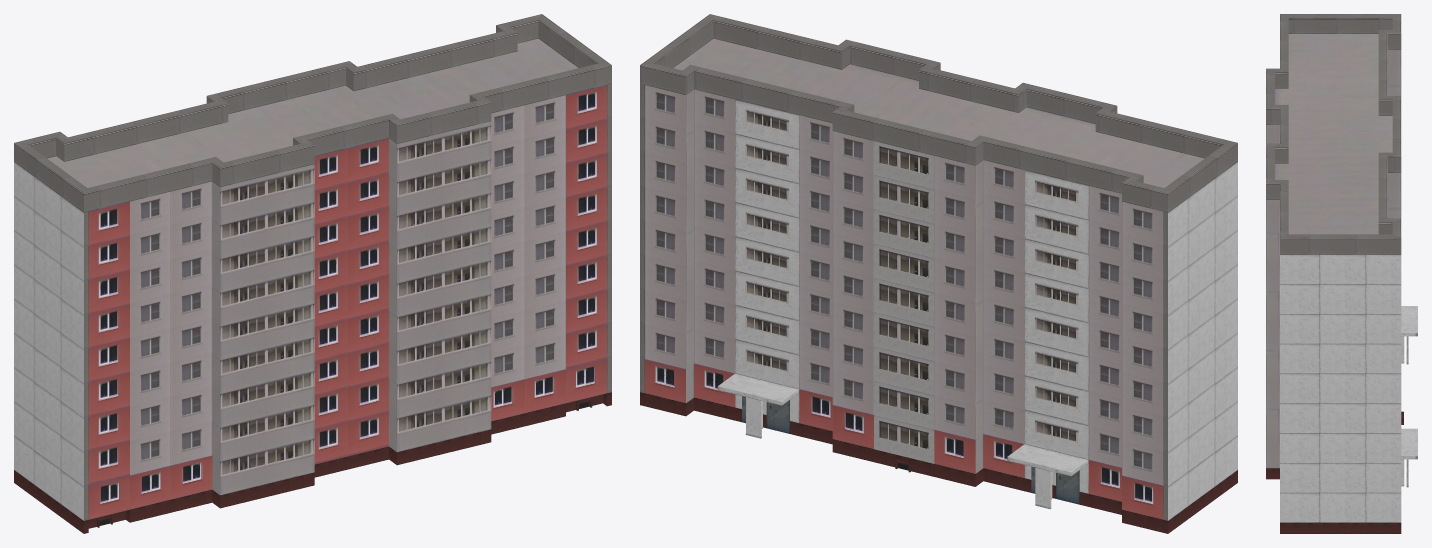
Rendered from panel_house_9.glb.
3 renders of one model, left to right at view 1: azimuth 30°, elevation 25°; view 2: azimuth 150°, elevation 25°; view 3: azimuth 270°, elevation 25°, orthographic. The views are drawn at different scales.
Visible parts, largest first — view 1: Object_2, Object_4, Object_6, Object_3, Object_7, Object_5; view 2: Object_6, Object_9, Object_3, Object_7, Object_2, Object_10, Object_4, Object_5, Object_8; view 3: Object_7, Object_2, Object_3, Object_5.
Boxes of the visible parts, box(x1,y1,x2,y2) form: Object_2: box(47, 38, 578, 495); Object_4: box(88, 85, 606, 525); Object_6: box(130, 95, 565, 475); Object_3: box(14, 14, 611, 520); Object_7: box(14, 162, 83, 520); Object_5: box(14, 392, 611, 533); Object_6: box(645, 85, 1163, 485); Object_9: box(735, 99, 1088, 459); Object_3: box(640, 14, 1237, 520); Object_7: box(717, 162, 1237, 520); Object_2: box(673, 38, 1204, 473); Object_10: box(874, 141, 934, 463); Object_4: box(645, 359, 1163, 519); Object_5: box(640, 392, 1237, 533); Object_8: box(742, 396, 1079, 504); Object_7: box(1280, 254, 1417, 522); Object_2: box(1266, 34, 1401, 468); Object_3: box(1266, 14, 1401, 254); Object_5: box(1266, 411, 1403, 533).
Size of the model in its own units: 44.4 by 27.33 by 12.7.
9 materials, 9 textured.
